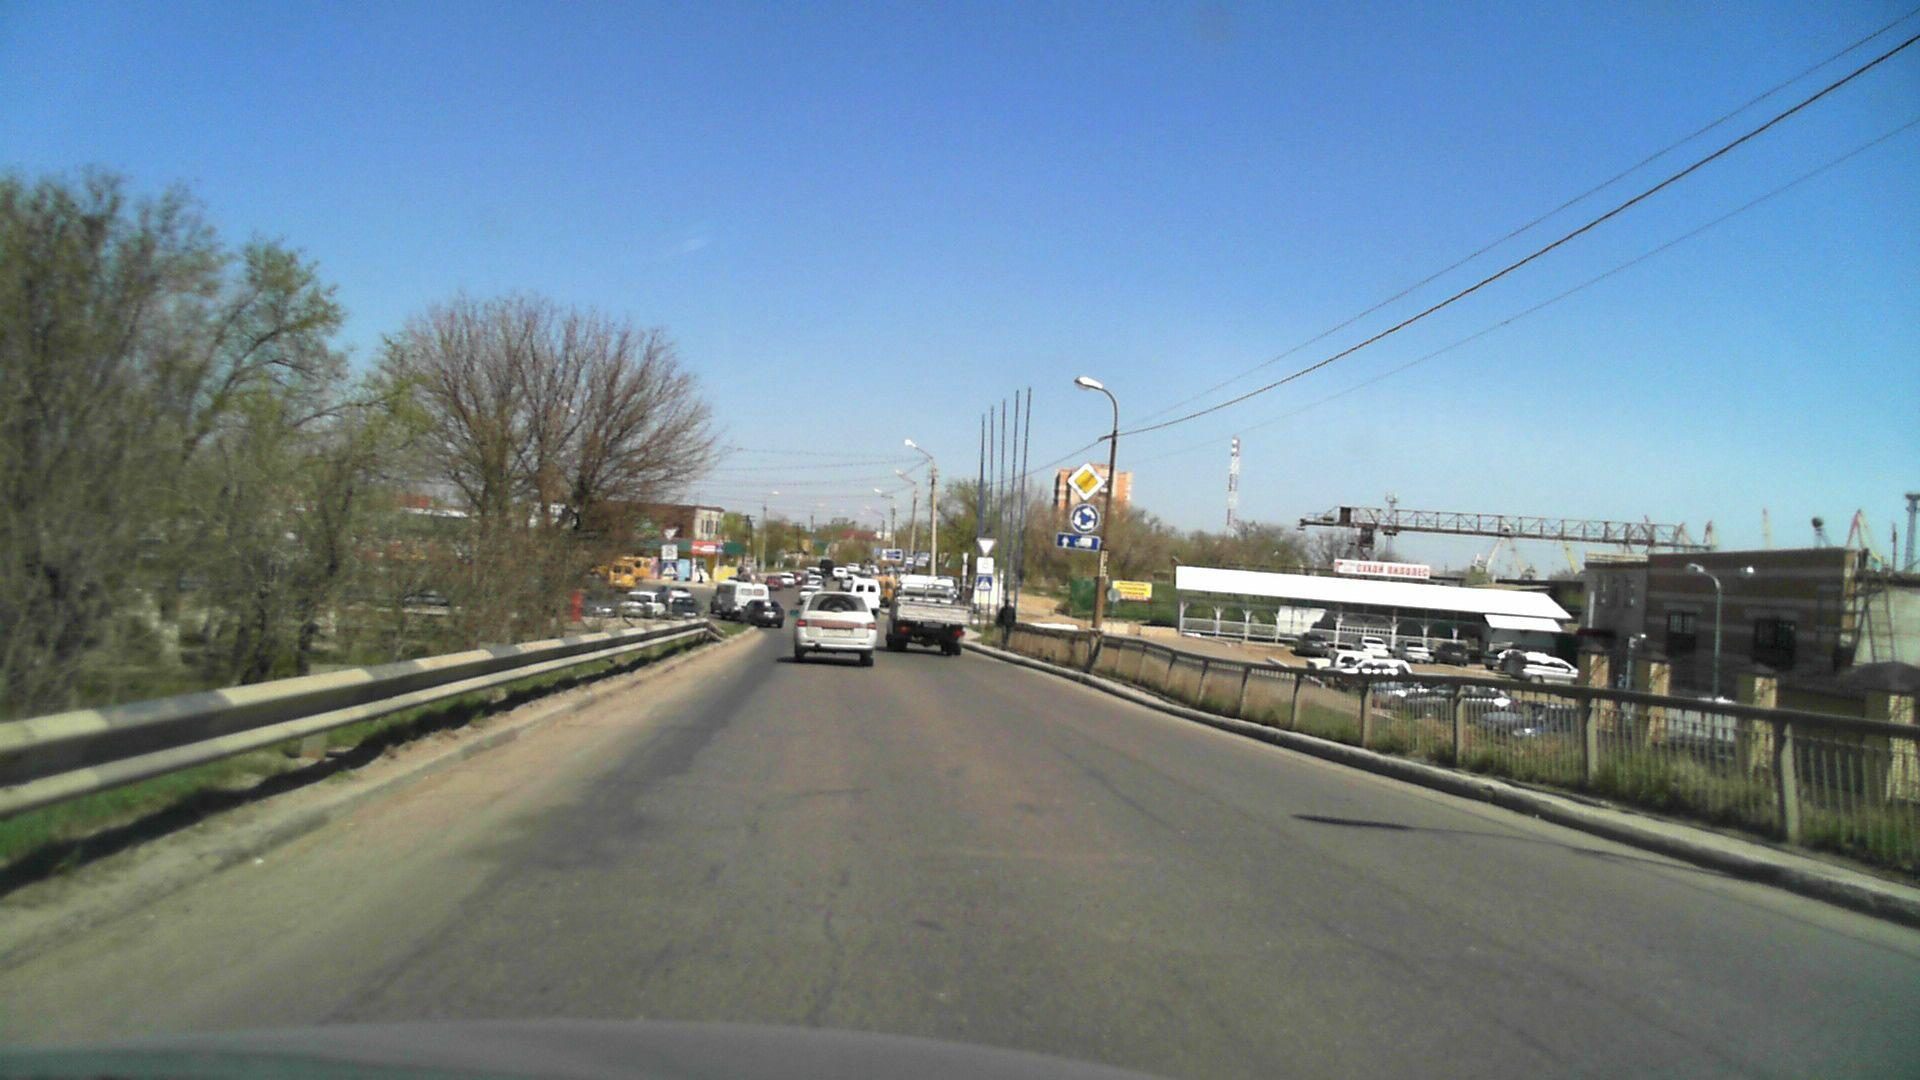2_2: (1067, 462, 1106, 501)
2_4: (976, 535, 998, 556), (662, 527, 680, 541)
4_3: (1069, 502, 1100, 531)
5_16: (905, 554, 913, 568)
5_19_1: (977, 576, 993, 592)
5_19_2: (663, 563, 676, 576)
6_10_1: (880, 545, 903, 562)
6_15_1: (1056, 534, 1102, 554)
8_13: (976, 556, 994, 575), (662, 545, 678, 560)
